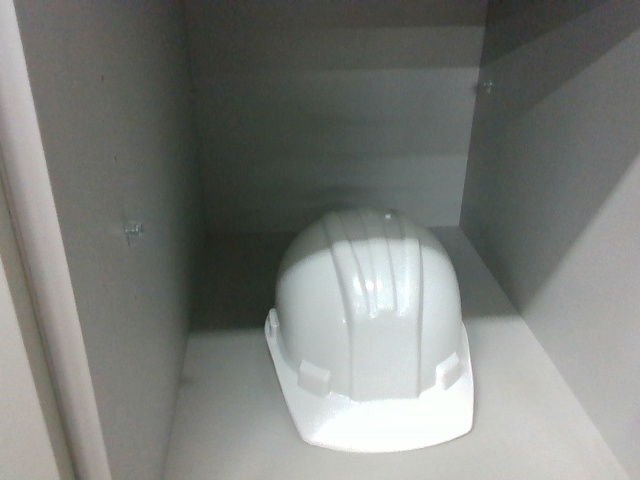helmet: (263, 208, 478, 456)
